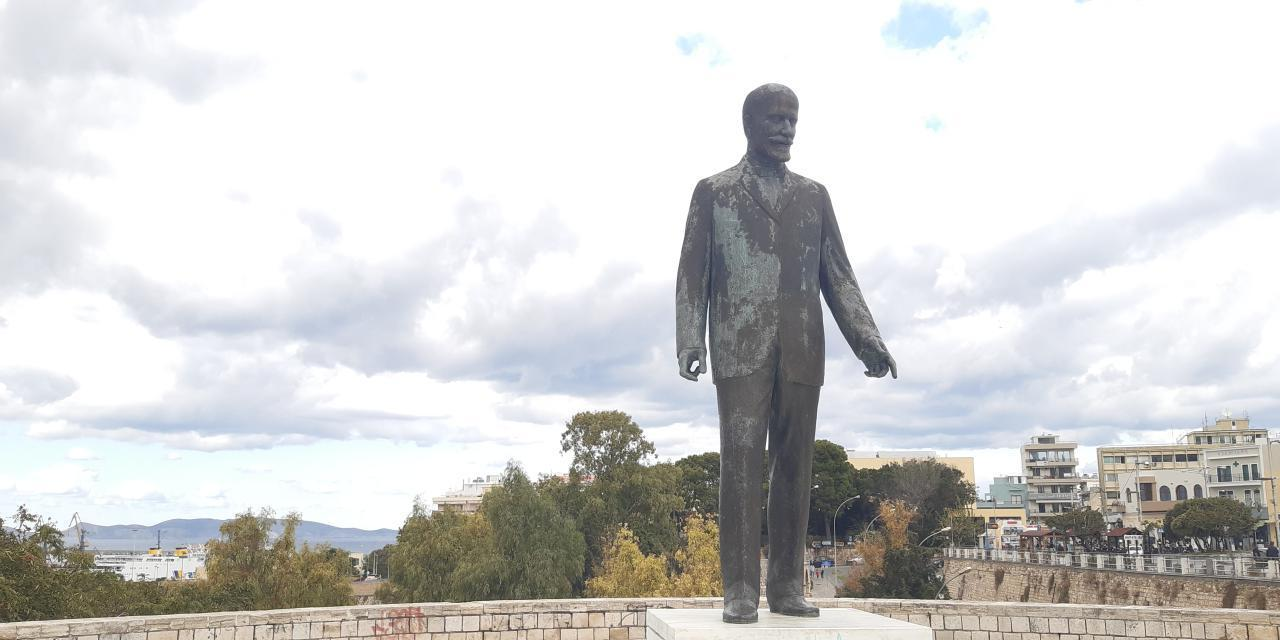Venizelos: (672, 86, 899, 623)
